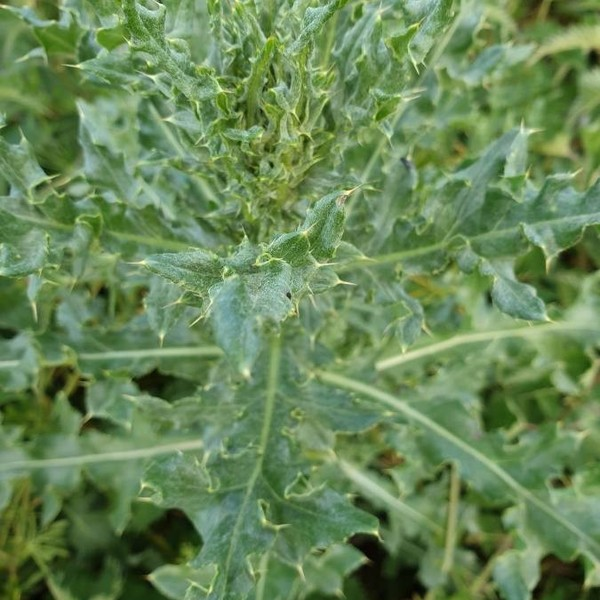obstacle: (86, 29, 595, 554)
